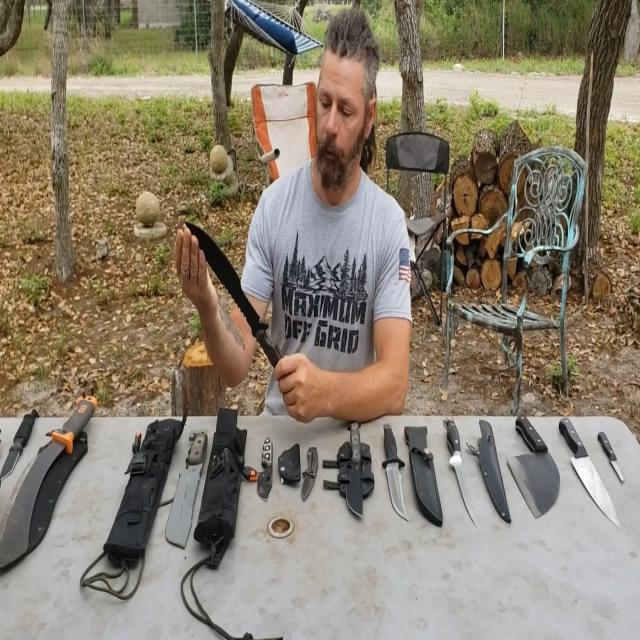knife: (0, 367, 106, 596), (172, 229, 306, 383), (547, 411, 632, 537), (504, 388, 562, 536), (436, 406, 488, 534), (334, 398, 384, 527), (378, 414, 422, 556), (167, 428, 207, 548), (0, 392, 48, 491), (286, 444, 328, 528), (599, 425, 636, 503), (256, 432, 285, 508)
